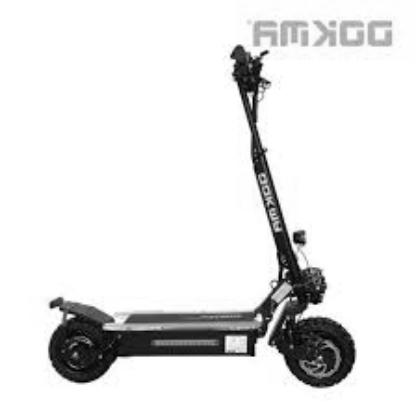bike: (48, 46, 356, 389)
